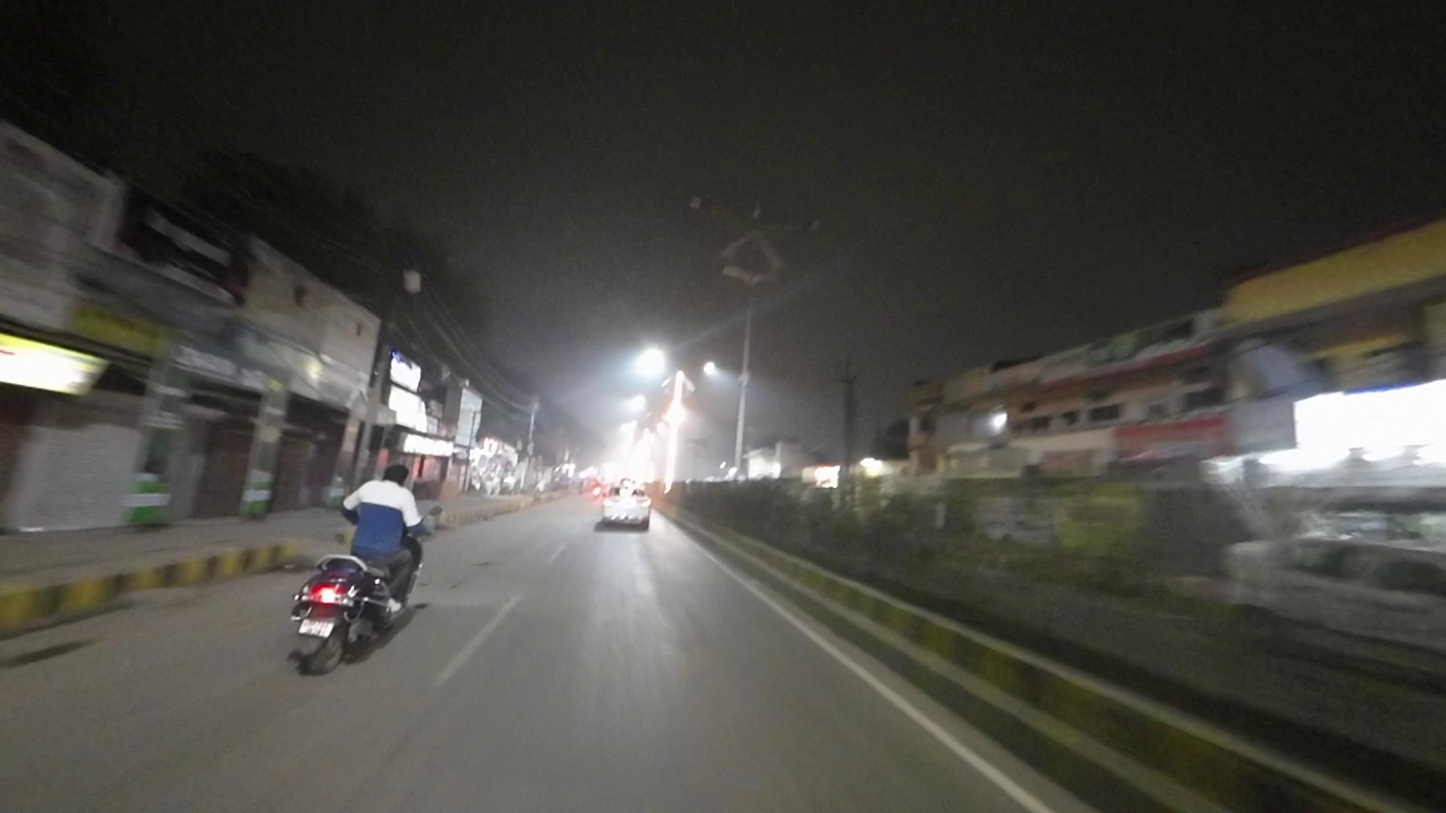streetlight: (686, 192, 749, 233), (768, 218, 822, 239)
